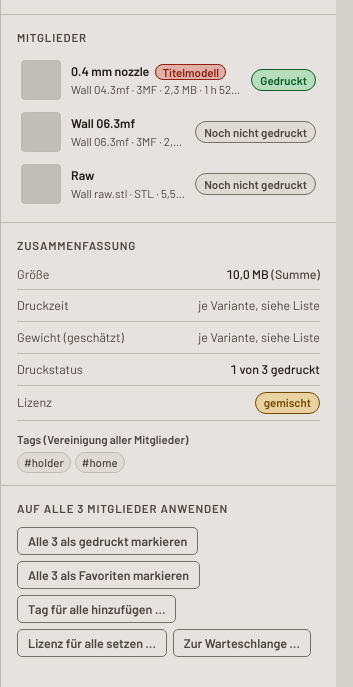
Test: BundlePanel queue › cancels the question with the button and with Escape
This screenshot has width=353, height=687.
(page scrolled)
Click the button "Zur Warteschlange …" at coordinates (242, 643), box [173, 629, 311, 657]
(page scrolled)
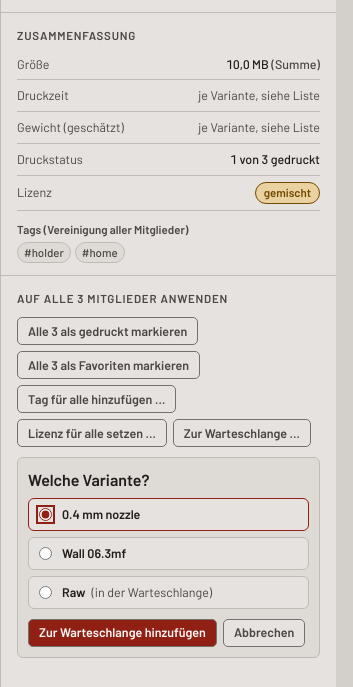
Click the button "Abbrechen" at coordinates (264, 633), box [223, 619, 305, 647]
(page scrolled)
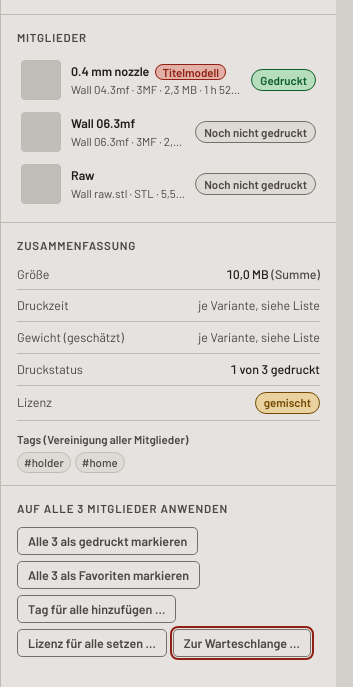
Expected: the text "Welche Variante?" is gone
Click the button "Zur Warteschlange …" at coordinates (242, 643), box [173, 629, 311, 657]
(page scrolled)
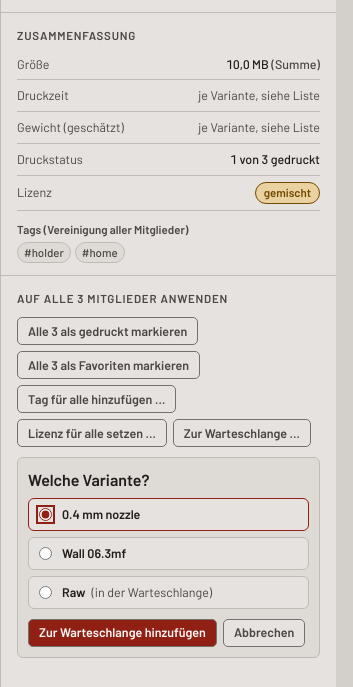
Press Escape in the element "Welche Variante?", box [17, 457, 320, 658]
(page scrolled)
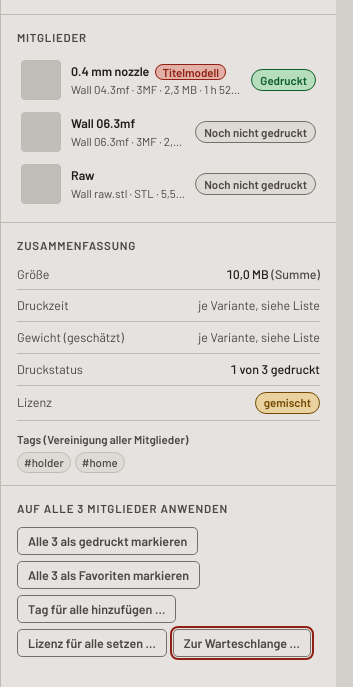
Expected: the text "Welche Variante?" is gone
